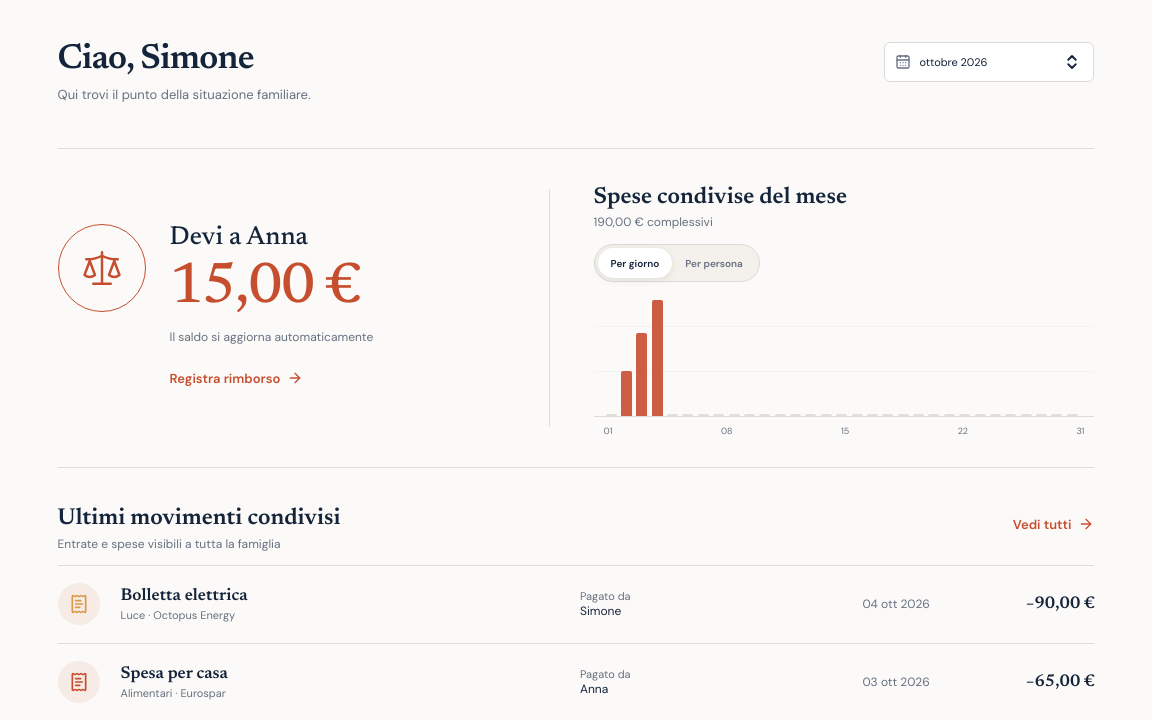
Dashboard workspace selector › shows how much each member advanced for shared expenses in the current month
Click the button "Per persona".
click(714, 263)  # box [672, 248, 756, 278]
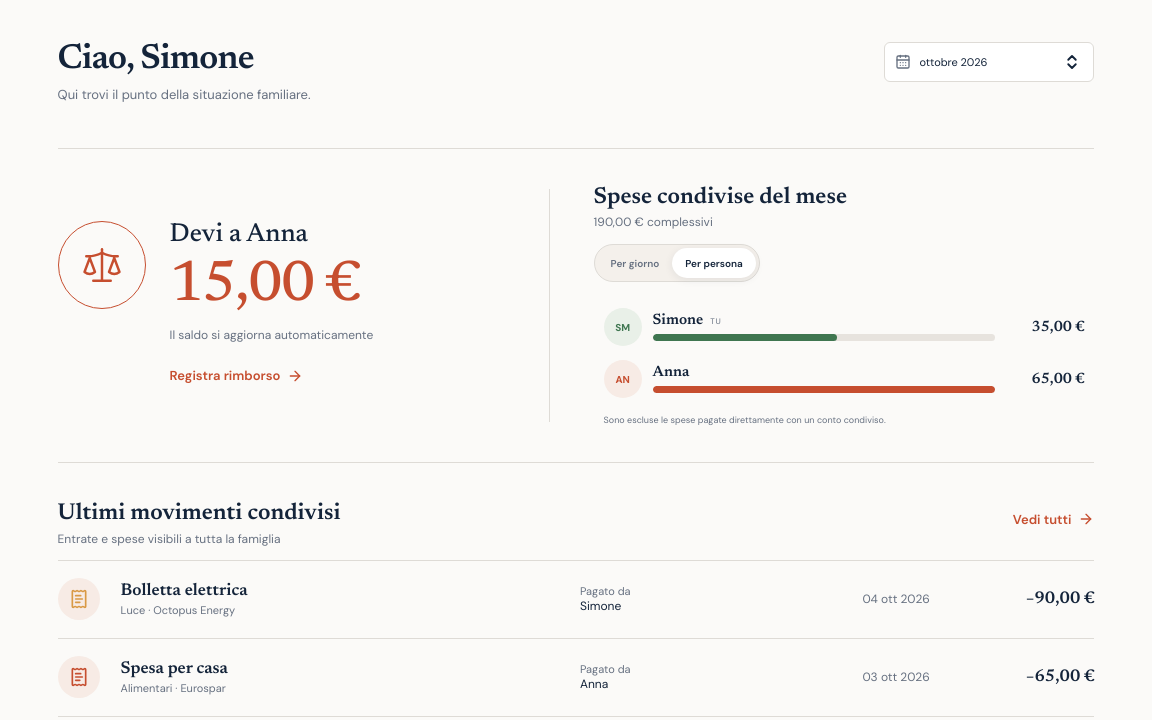
Check: the picture named "Simone: 35,00" is shown, box [604, 308, 1084, 346]
Check: the picture named "Anna: 65,00" is shown, box [604, 360, 1084, 398]
Check: the text "Sono escluse le spese pagate direttamente con un conto condiviso." is shown, box [604, 414, 886, 426]
